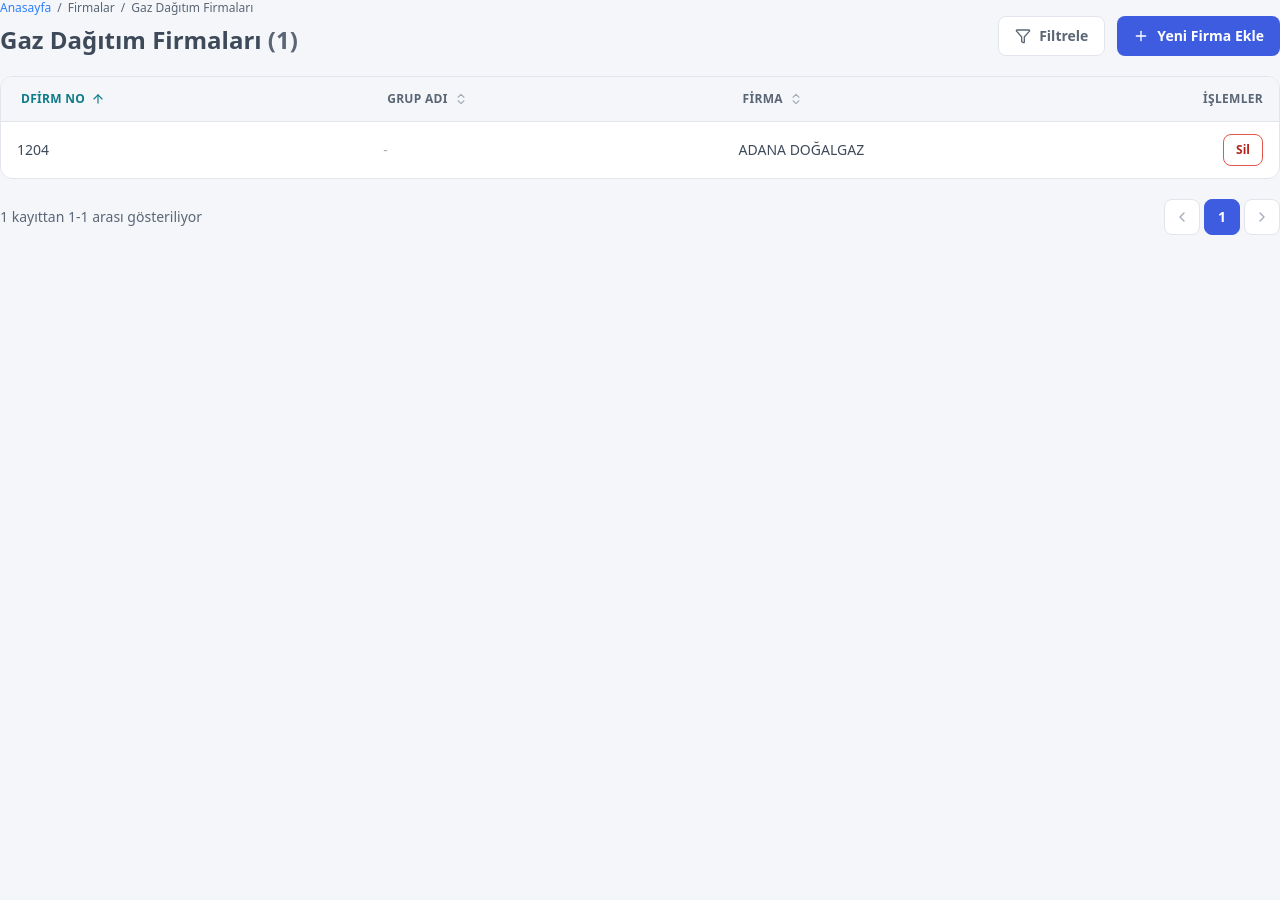
Scenario: firma silme › onaylanınca DELETE ucuna gider ve listeyi tazeler
What coordinates should you click on to do the following:
click the button "Sil"
I would click on:
 (1243, 150)
Its box is x1=1223 y1=134 x2=1263 y2=166.
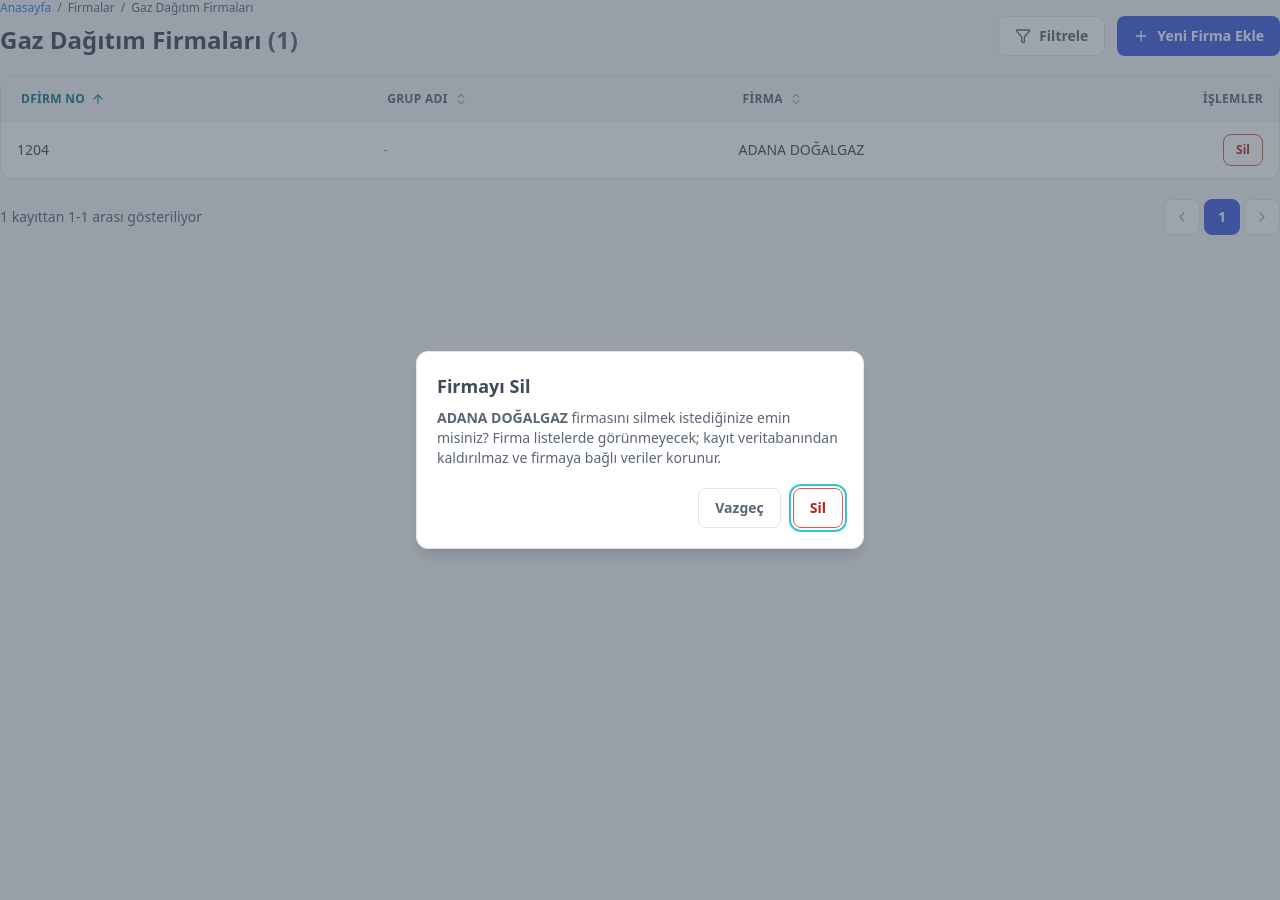
What coordinates should you click on to do the following:
click the button "Sil"
I would click on:
 (818, 508)
Its box is x1=793 y1=488 x2=843 y2=528.
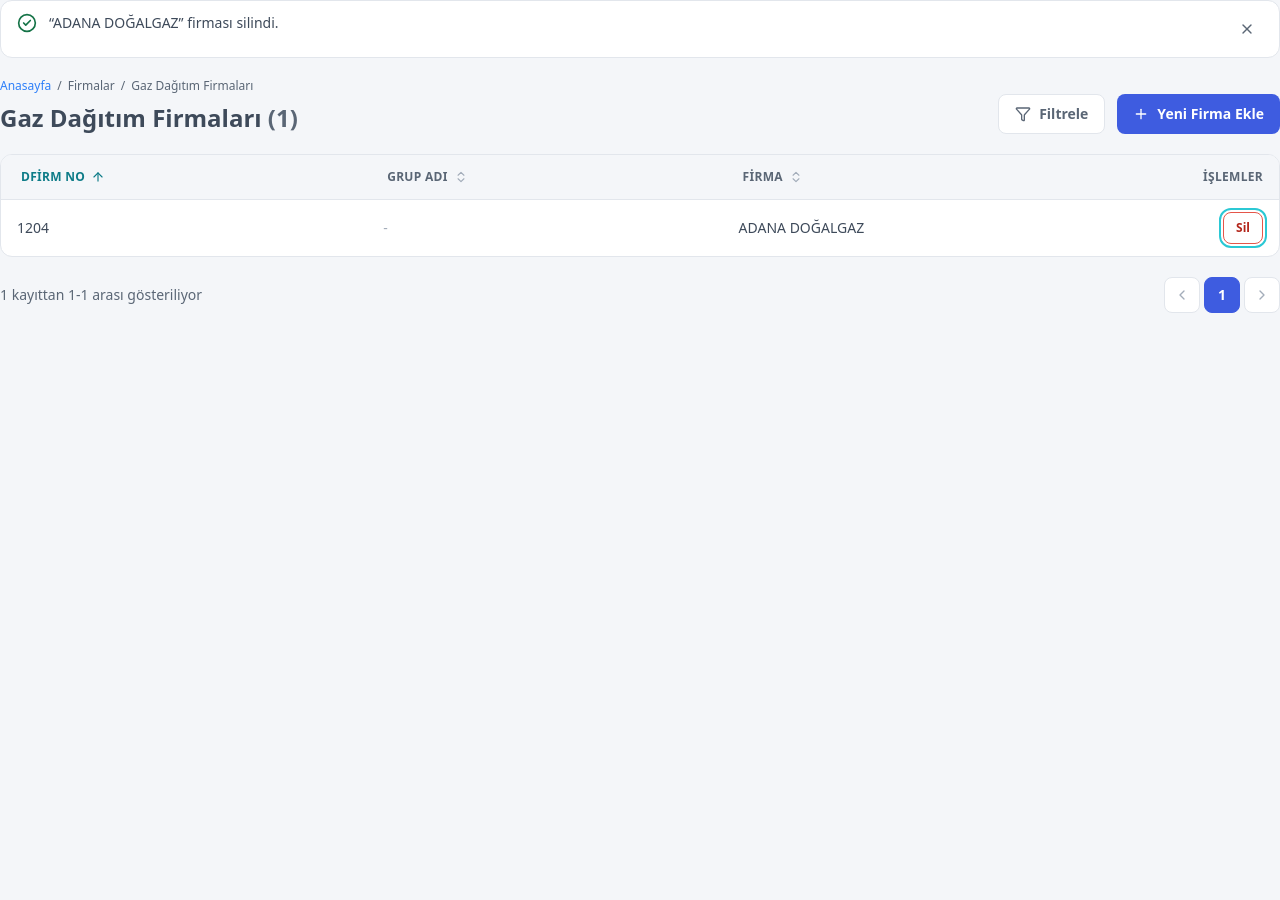
Result: the message shows "firması silindi" at x1=49 y1=13 x2=278 y2=32
